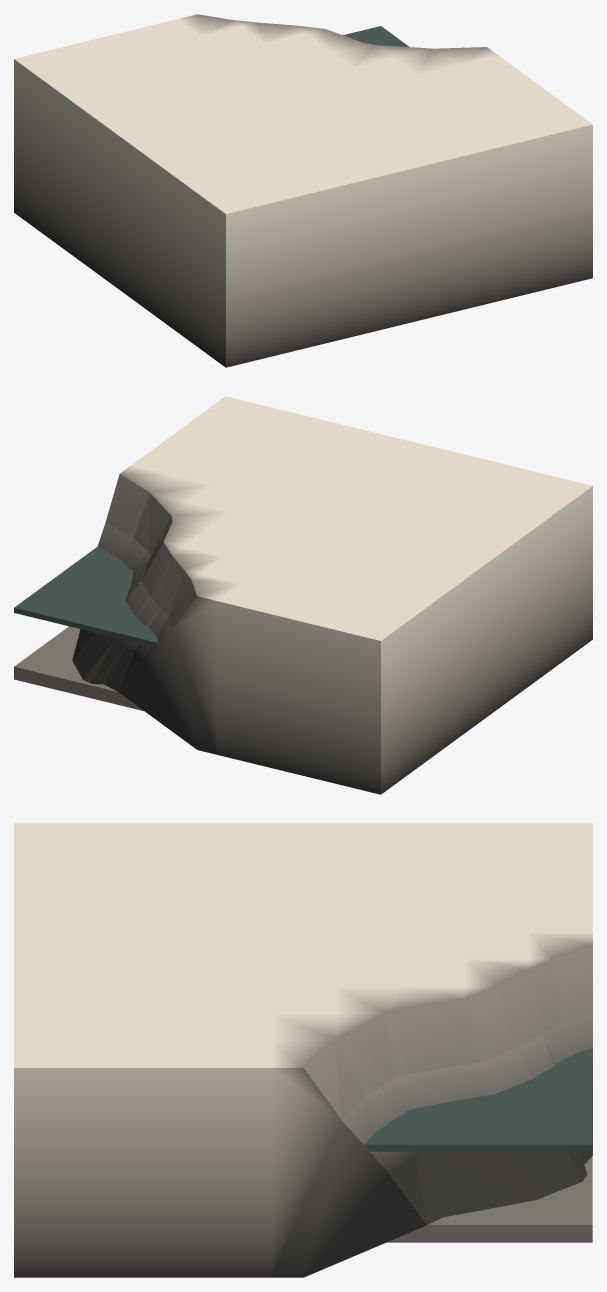
Rendered from SM_VKI_Ground_Stream_OOXO_Q10.fbx.
The picture shows the model from 3 angles, top to bottom: view 1: azimuth 30°, elevation 25°; view 2: azimuth 150°, elevation 25°; view 3: azimuth 270°, elevation 25°; orthographic projection. The views are drawn at different scales.
Visible parts, largest first — view 1: SM_VKI_Ground_Stream_OOXO_Q10.001; view 2: SM_VKI_Ground_Stream_OOXO_Q10.001; view 3: SM_VKI_Ground_Stream_OOXO_Q10.001.
Boxes of the visible parts, bbox=[...] form: SM_VKI_Ground_Stream_OOXO_Q10.001: bbox=[14, 14, 592, 367]; SM_VKI_Ground_Stream_OOXO_Q10.001: bbox=[14, 396, 592, 794]; SM_VKI_Ground_Stream_OOXO_Q10.001: bbox=[14, 823, 592, 1277].
Bounding box in the file's own units: 1.5 × 0.6 × 1.5.
